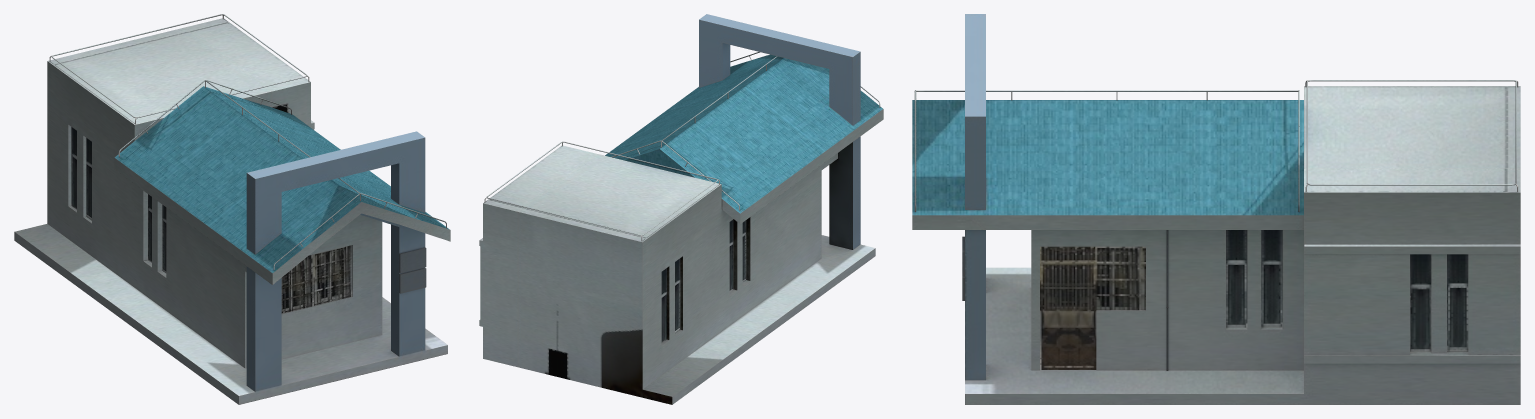
File: build12YNSCYQ.glb
3 views of the same model, side by side, from view 1: azimuth 30°, elevation 25°; view 2: azimuth 150°, elevation 25°; view 3: azimuth 270°, elevation 25° (orthographic). The views are drawn at different scales.
Visible parts, largest first — view 1: bulid12YNSCYQ; view 2: bulid12YNSCYQ; view 3: bulid12YNSCYQ.
Boxes of the visible parts, <box> form: bulid12YNSCYQ: <box>14,14,450,404</box>; bulid12YNSCYQ: <box>479,14,883,404</box>; bulid12YNSCYQ: <box>912,14,1520,404</box>.
Bounding box in the file's own units: 464 × 462 × 928.
Materials: 1 (1 with a texture image).
